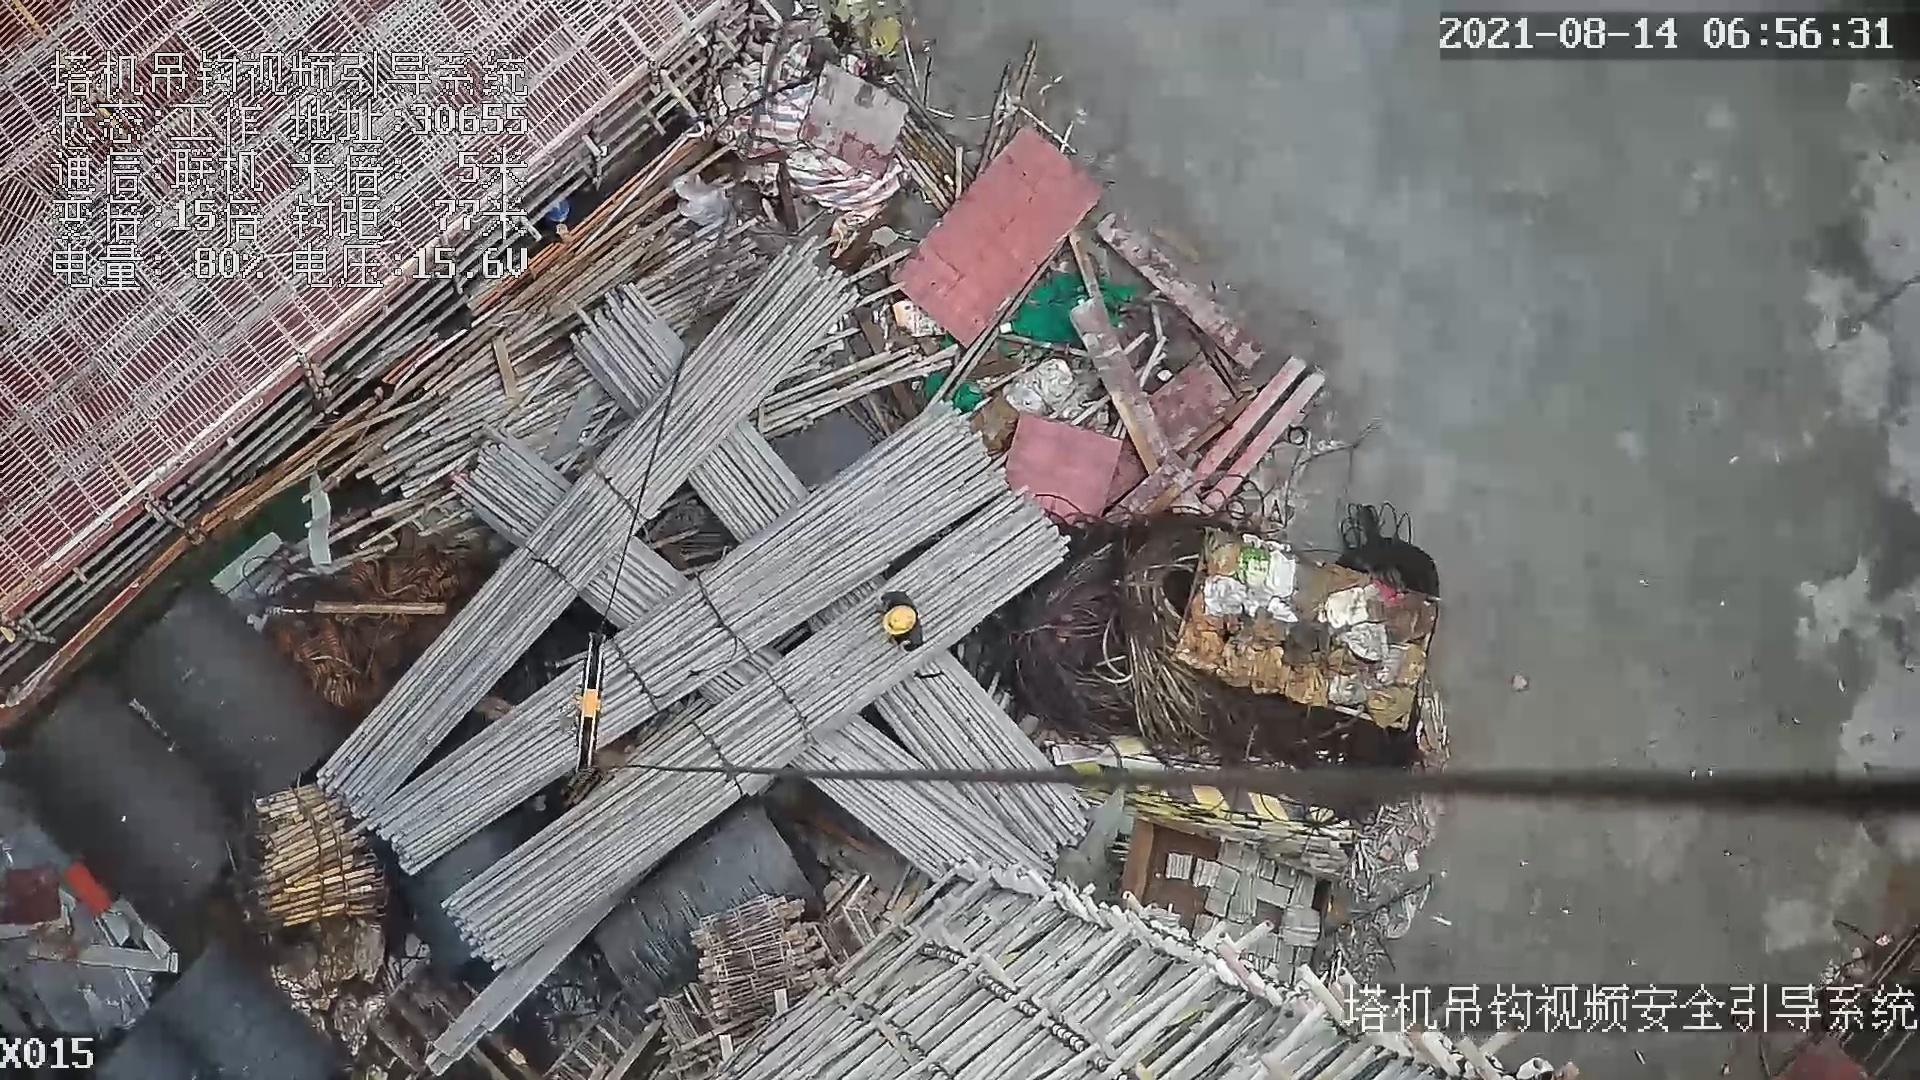helmet: (883, 605, 917, 636)
hook: (572, 626, 612, 781)
person: (878, 590, 927, 656)
rebar: (321, 243, 855, 818), (371, 396, 1005, 879), (443, 484, 1069, 973), (788, 716, 1052, 889), (875, 650, 1092, 851)
wood: (252, 784, 386, 927)
